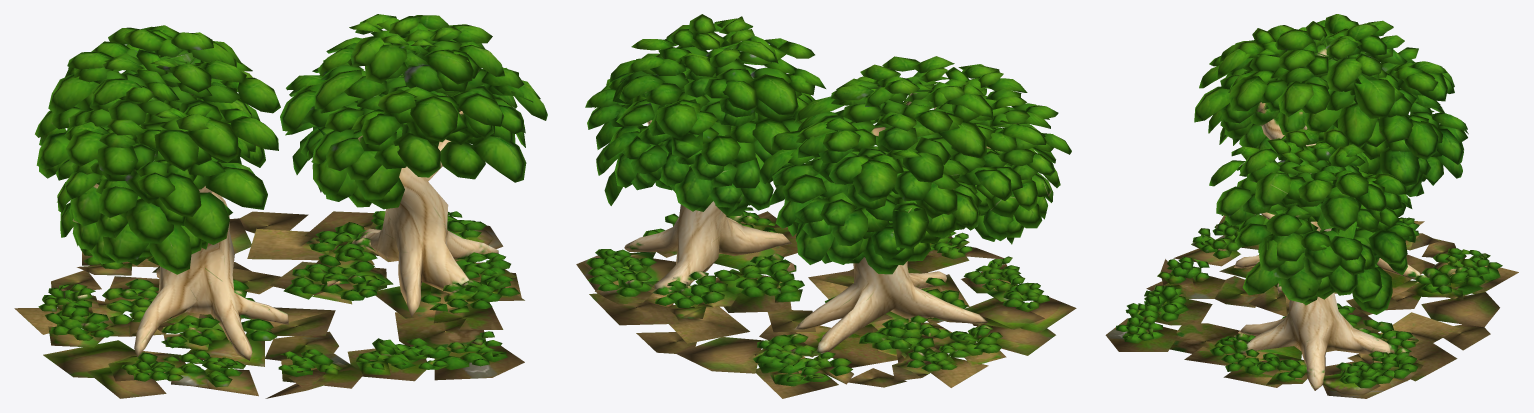
File: arboles-frutales_e2.glb
The picture shows the model from 3 angles, left to right: view 1: azimuth 30°, elevation 25°; view 2: azimuth 150°, elevation 25°; view 3: azimuth 270°, elevation 25°; orthographic projection. The views are drawn at different scales.
Parts seen in each view (by area): view 1: arboles-frutales_cuerpo; view 2: arboles-frutales_cuerpo; view 3: arboles-frutales_cuerpo.
Boxes of the visible parts, x1=… form: arboles-frutales_cuerpo: x1=14, y1=14, x2=547, y2=398; arboles-frutales_cuerpo: x1=576, y1=14, x2=1076, y2=398; arboles-frutales_cuerpo: x1=1105, y1=14, x2=1518, y2=398.
Size of the model in its own units: 1.9 by 1.1 by 1.76.
Materials: 1 (1 with a texture image).
